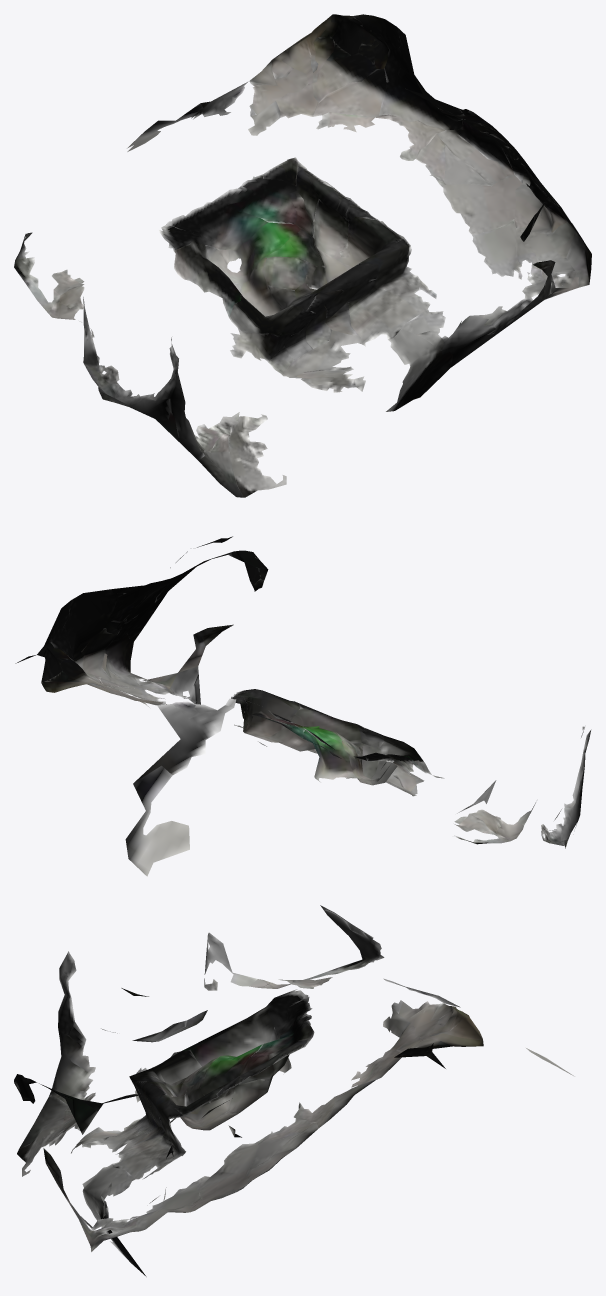
The model's file is hall.glb.
The picture shows the model from 3 angles, top to bottom: view 1: azimuth 30°, elevation 25°; view 2: azimuth 150°, elevation 25°; view 3: azimuth 270°, elevation 25°; orthographic projection. The views are drawn at different scales.
Bounding box in the file's own units: 0.8855 × 0.5116 × 0.8561.
Materials: 1 (1 with a texture image).
